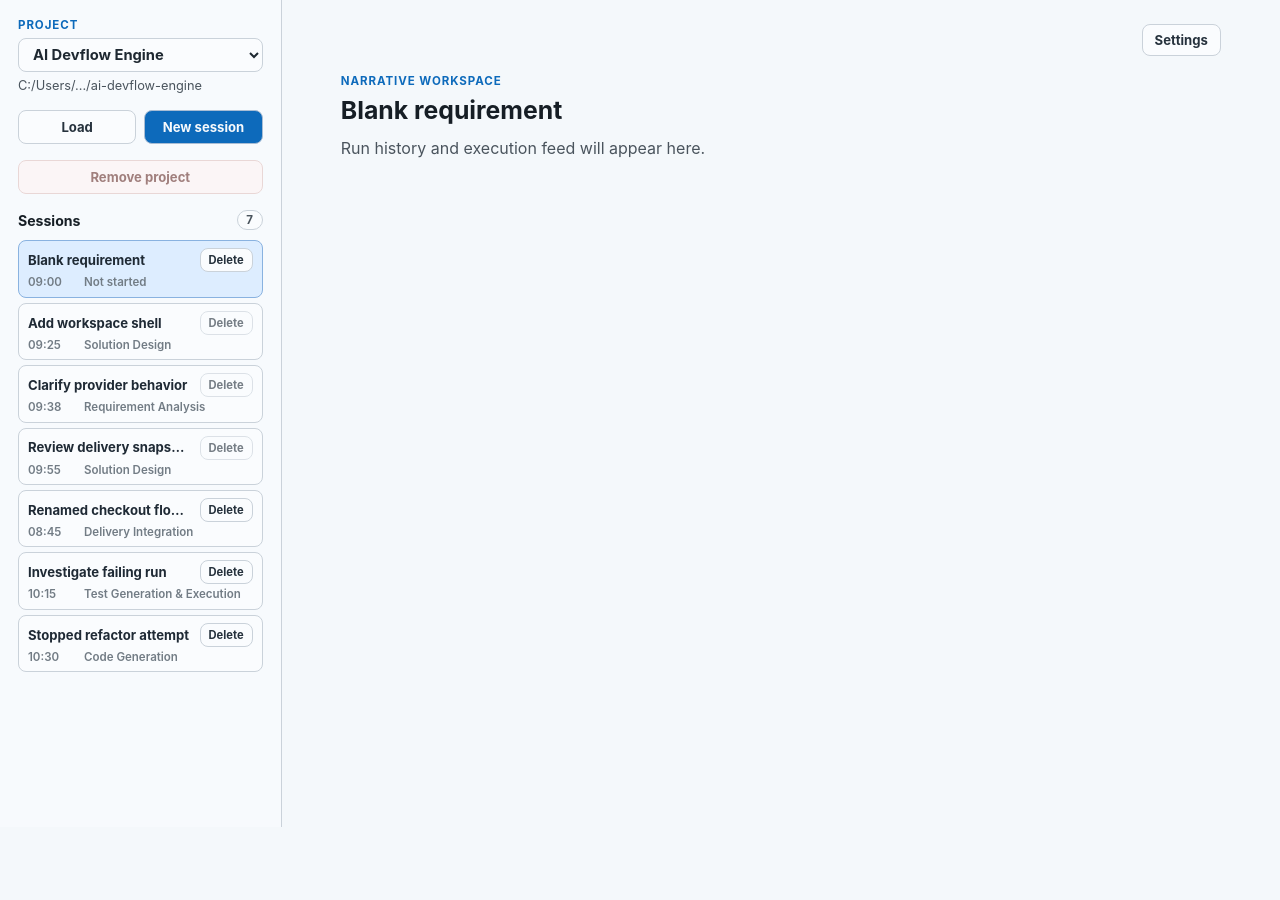
Test: session delete selection › removes a deleted historical session without changing the current session
Click the button with aria-label "Delete Renamed checkout flow fix" at (226, 510), box x1=200 y1=498 x2=253 y2=522
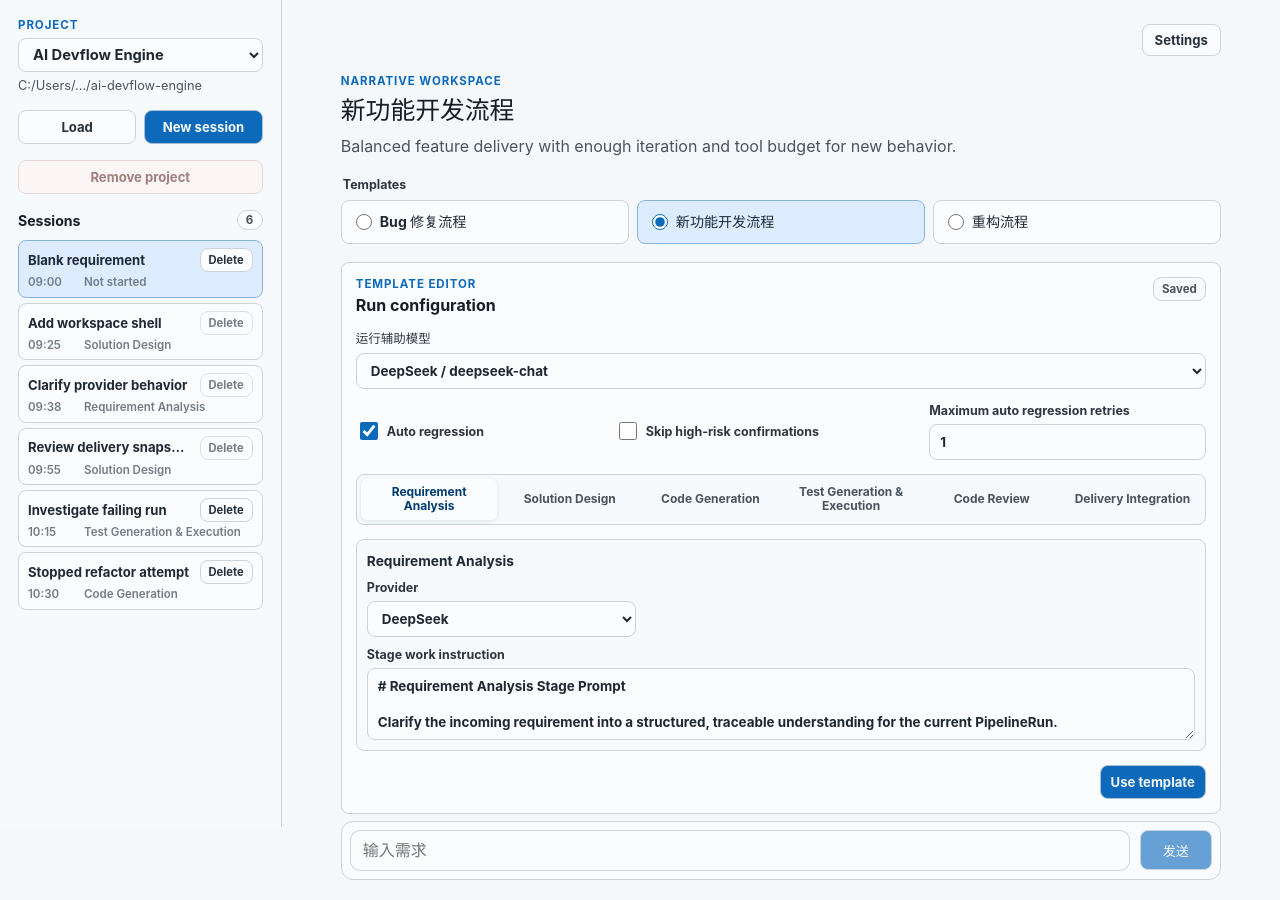
Expected: the element named "Template empty state" is shown, x1=341 y1=74 x2=1221 y2=814
